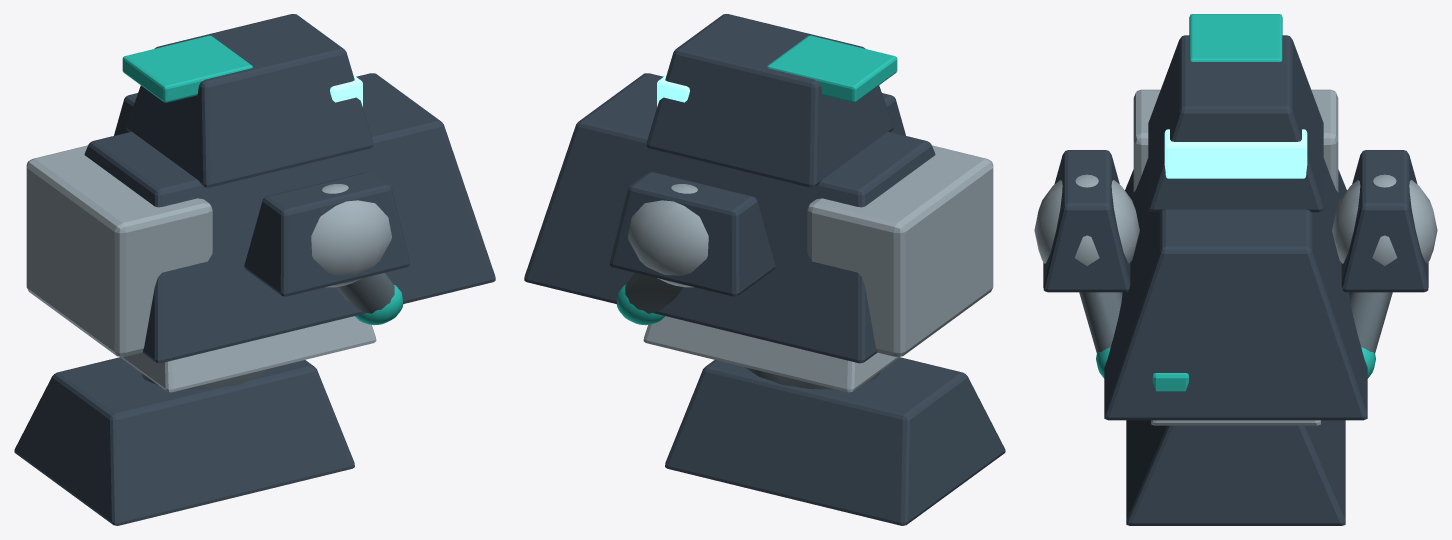
The model's file is SM_Needle_Body.fbx.
3 views of the same model, side by side, from view 1: azimuth 30°, elevation 25°; view 2: azimuth 150°, elevation 25°; view 3: azimuth 270°, elevation 25° (orthographic). The views are drawn at different scales.
Parts seen in each view (by area): view 1: SM_Needle_Body; view 2: SM_Needle_Body; view 3: SM_Needle_Body.
Boxes of the visible parts, <box> form: SM_Needle_Body: <box>14,14,495,525</box>; SM_Needle_Body: <box>524,14,1005,525</box>; SM_Needle_Body: <box>1034,14,1437,525</box>.
Bounding box in the file's own units: 27.36 × 23.81 × 27.99.
